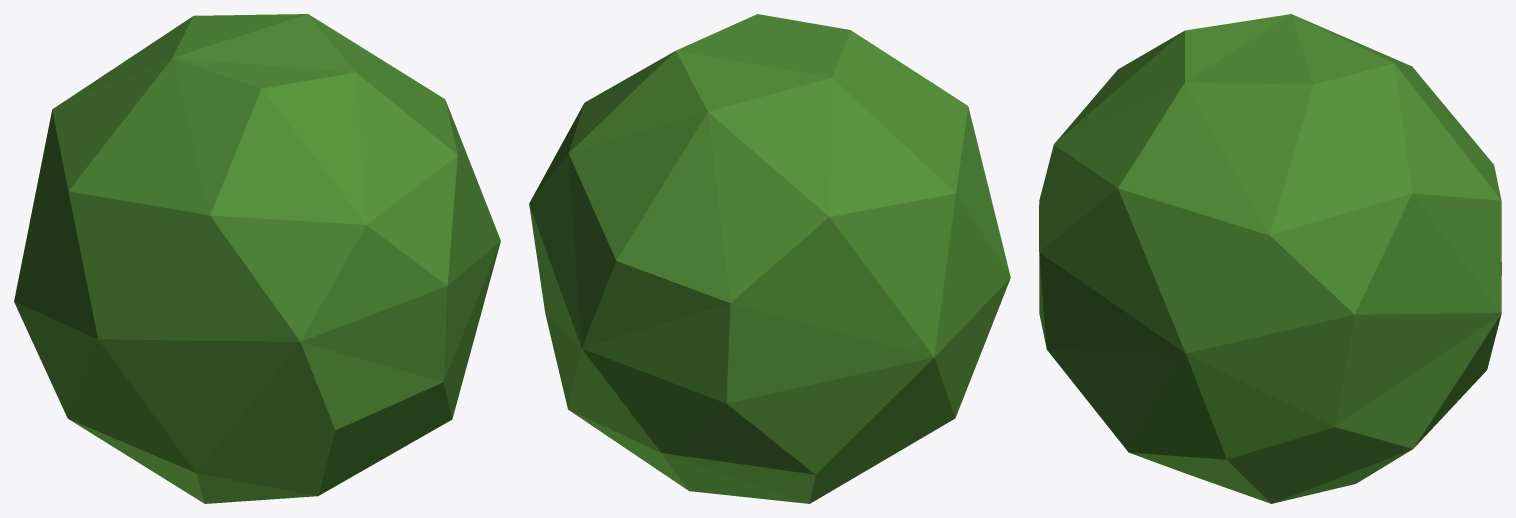
File: shrub-round_tropic.glb
3 views of the same model, side by side, from view 1: azimuth 30°, elevation 25°; view 2: azimuth 150°, elevation 25°; view 3: azimuth 270°, elevation 25° (orthographic).
Parts seen in each view (by area): view 1: shrub-round_tropic; view 2: shrub-round_tropic; view 3: shrub-round_tropic.
Part boxes in pixels (x1=…): shrub-round_tropic: x1=14, y1=14, x2=500, y2=503; shrub-round_tropic: x1=529, y1=14, x2=1010, y2=503; shrub-round_tropic: x1=1039, y1=14, x2=1501, y2=503.
Bounding box in the file's own units: 1.46 × 1.46 × 1.47.
Materials: 1 (1 with a texture image).
